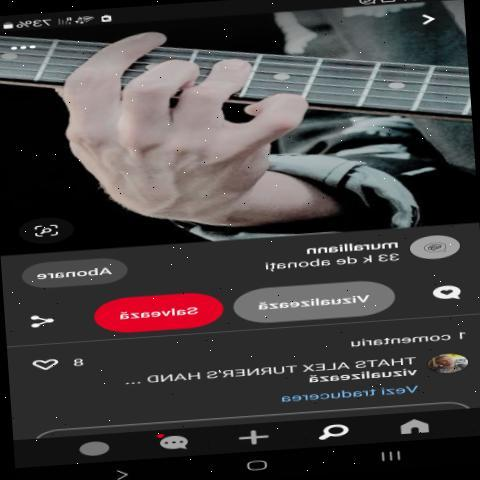Hands: (46, 19, 336, 230)
